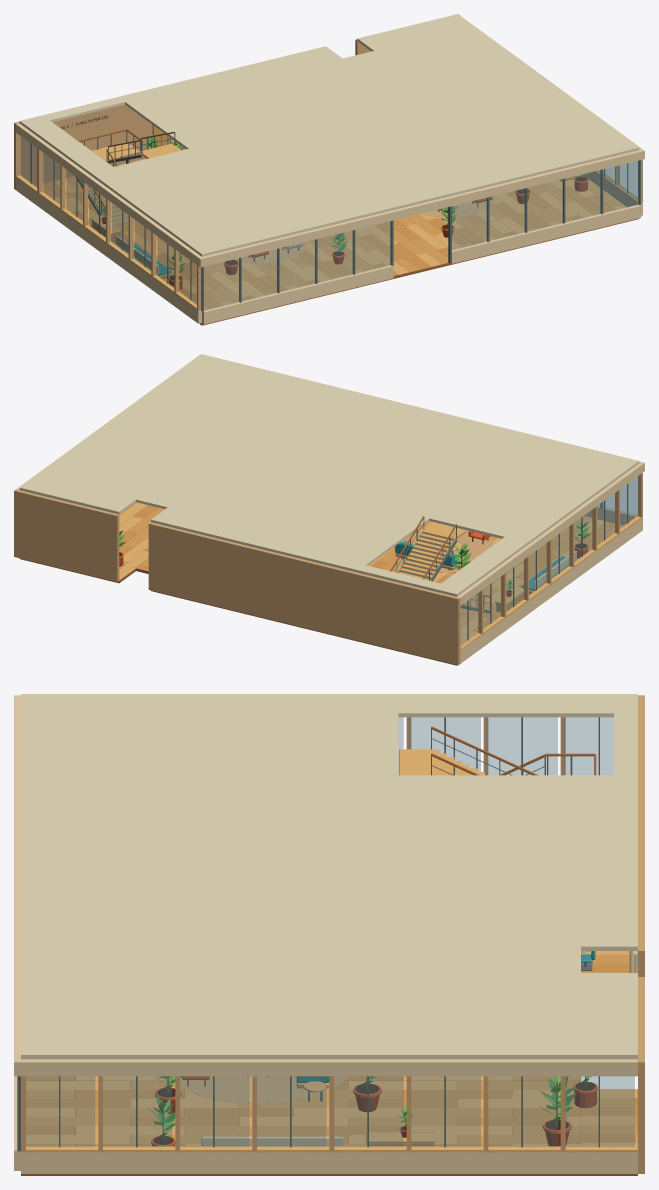
File: atrium.glb
3 renders of one model, top to bottom at view 1: azimuth 30°, elevation 25°; view 2: azimuth 150°, elevation 25°; view 3: azimuth 270°, elevation 25°, orthographic. The views are drawn at different scales.
Visible parts, largest first — view 1: atrio_ceiling, atrio_floor_boards_main, atrio_wall_south_left_glass, atrio_wall_south_right_glass, atrio_wall_south_header, atrio_wall_north_west, atrio_wall_south_left_base, atrio_wall_south_right_base, atrio_wall_west_base, atrio_wall_west_header, atrio_floor_main, atrio_window_west_6_glass (+12 smaller); view 2: atrio_ceiling, atrio_wall_north_west, atrio_wall_north_east, atrio_floor_boards_main, atrio_wall_west_base, atrio_wall_west_header, atrio_waiting_rug_left, atrio_window_west_0_glass, atrio_window_west_1_glass, atrio_window_west_5_glass, atrio_window_west_4_glass, atrio_window_west_6_glass (+4 smaller); view 3: atrio_ceiling, atrio_floor_boards_main, atrio_wall_east_base, atrio_wall_east_header, atrio_window_east_0_glass, atrio_window_east_2_glass, atrio_window_east_3_glass, atrio_window_east_4_glass, atrio_window_east_5_glass, atrio_window_east_6_glass, atrio_window_east_7_glass, atrio_window_east_1_glass (+13 smaller).
Part boxes in pixels (x1,y1,x2,y2): atrio_ceiling: (19,14,639,256); atrio_floor_boards_main: (52,175,625,310); atrio_wall_south_left_glass: (204,221,390,310); atrio_wall_south_right_glass: (452,161,638,250); atrio_wall_south_header: (198,149,644,267); atrio_wall_north_west: (14,104,185,189); atrio_wall_south_left_base: (202,265,393,324); atrio_wall_south_right_base: (451,204,641,263); atrio_wall_west_base: (16,177,201,323); atrio_wall_west_header: (16,123,201,265); atrio_floor_main: (66,191,639,325); atrio_window_west_6_glass: (43,153,59,203); atrio_ceiling: (19,354,639,596); atrio_wall_north_west: (148,522,460,665); atrio_wall_north_east: (14,489,119,581); atrio_floor_boards_main: (119,502,622,644); atrio_wall_west_base: (460,517,642,663); atrio_wall_west_header: (457,463,642,605); atrio_waiting_rug_left: (395,528,494,572); atrio_window_west_0_glass: (620,476,637,528); atrio_window_west_1_glass: (597,493,614,544); atrio_window_west_5_glass: (506,560,523,611); atrio_window_west_4_glass: (529,543,546,595); atrio_window_west_6_glass: (483,577,500,628); atrio_ceiling: (21,694,637,1059); atrio_floor_boards_main: (26,1076,580,1146); atrio_wall_east_base: (21,1151,637,1173); atrio_wall_east_header: (21,1059,637,1076); atrio_window_east_0_glass: (26,1076,94,1146); atrio_window_east_2_glass: (180,1076,249,1146); atrio_window_east_3_glass: (257,1076,326,1146); atrio_window_east_4_glass: (334,1076,403,1146); atrio_window_east_5_glass: (411,1076,480,1146); atrio_window_east_6_glass: (488,1076,557,1146); atrio_window_east_7_glass: (566,1076,634,1146); atrio_window_east_1_glass: (103,1076,171,1146).
Bounding box in the file's own units: 36.6 × 6.46 × 26.6.
